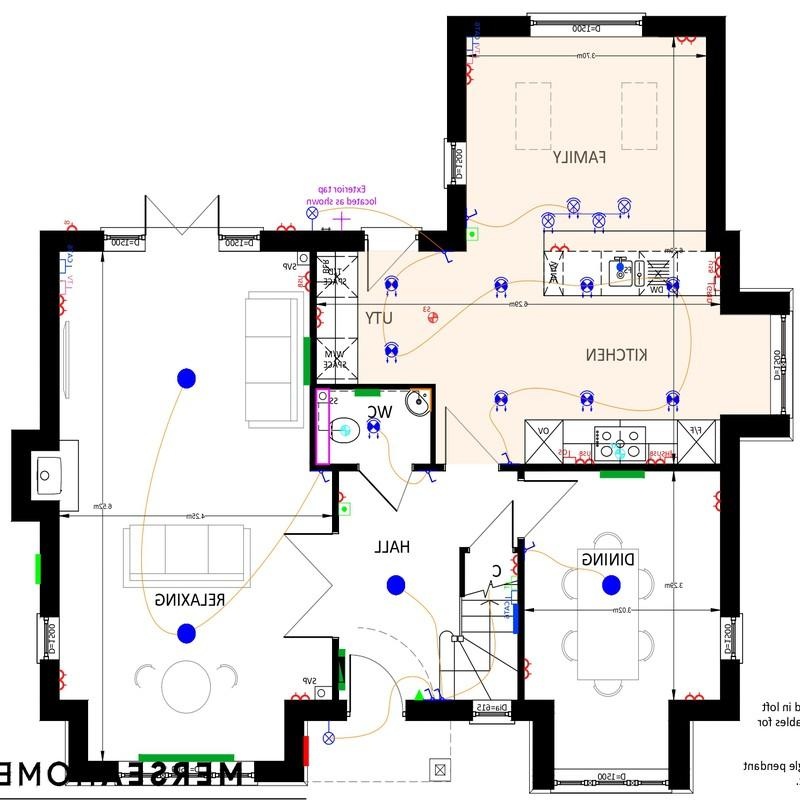BT Entry Point: (408, 683, 425, 700)
Cat 6 Data Socket: (56, 250, 86, 275), (464, 32, 488, 50), (501, 590, 518, 605)
Ceiling Mounted Continuous Extract Fan With Boost Mode Activated By Light Switch: (333, 415, 354, 450)
Ceiling Mounted Continuous Extract Fan With Local Boost Switch: (417, 304, 453, 330)
Co-Ax TV Socket: (55, 276, 80, 294), (464, 50, 489, 67)
Consumer Unit: (335, 652, 347, 688)
Double Socket: (698, 484, 720, 520), (678, 681, 715, 701), (267, 214, 305, 232), (315, 298, 329, 337), (283, 684, 317, 700), (462, 65, 482, 91), (545, 238, 576, 254), (58, 292, 72, 324), (672, 33, 704, 46), (58, 664, 70, 695), (503, 554, 519, 575), (522, 655, 533, 684)
Electric Meter Box: (302, 729, 315, 772)
External Wall Light: (323, 718, 341, 750), (305, 200, 324, 230)
Gas Meter Box: (28, 544, 39, 603)
Grid Switch: (701, 276, 720, 302)
Hob Switch: (663, 449, 674, 465)
Light Switch: (417, 467, 446, 487), (493, 448, 523, 465), (437, 248, 460, 268), (465, 205, 484, 227), (524, 538, 541, 559), (312, 471, 333, 486), (433, 680, 447, 702), (425, 685, 437, 701)
Low Energy Downlighter: (535, 194, 633, 234), (489, 264, 521, 306), (378, 335, 412, 373), (378, 268, 415, 301), (568, 381, 601, 417), (572, 272, 604, 306), (657, 384, 689, 417), (661, 273, 687, 309), (362, 412, 386, 445), (491, 385, 515, 416)
Low Energy Pendant Light: (380, 565, 419, 608), (598, 565, 625, 614), (172, 618, 209, 647), (171, 360, 203, 390)
Outside Socket: (61, 214, 83, 231)
Outside Tap: (331, 201, 354, 232)
Oven Switch: (557, 446, 578, 464), (577, 449, 598, 464)
Programmable Room Thermostat: (336, 500, 355, 523), (465, 227, 482, 248)
Radiator: (132, 747, 243, 761), (296, 331, 313, 394), (595, 467, 651, 483), (349, 385, 392, 402), (337, 647, 349, 702)
Recirculating Extractor Fan: (609, 441, 631, 460)
Single Socket: (336, 490, 356, 505)
Telephone Socket: (502, 573, 517, 591)
USB Double Socket: (295, 263, 311, 302), (706, 256, 721, 278), (645, 449, 663, 464)
Underfloor Heating Manifold: (501, 603, 518, 636)
Water Entry Position: (616, 257, 628, 273)
